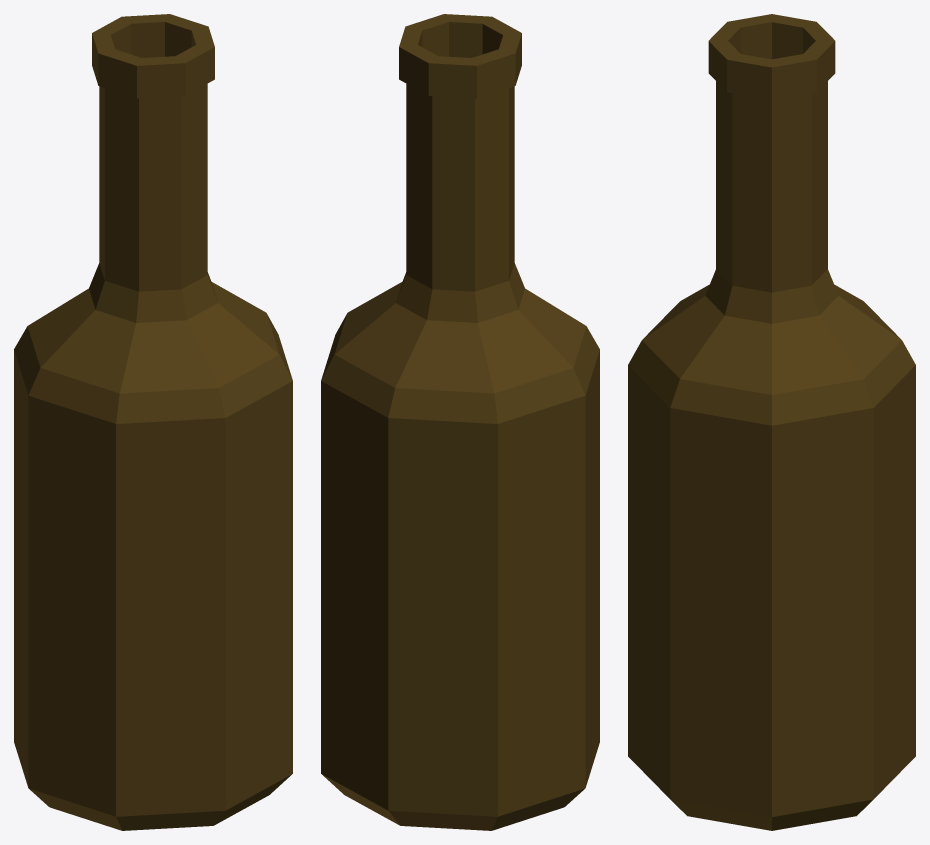
The model's file is bottle.glb.
3 views of the same model, side by side, from view 1: azimuth 30°, elevation 25°; view 2: azimuth 150°, elevation 25°; view 3: azimuth 270°, elevation 25° (orthographic).
Visible parts, largest first — view 1: Cylinder; view 2: Cylinder; view 3: Cylinder.
Boxes of the visible parts, x1,y1,x2,y2 form: Cylinder: [14, 14, 292, 830]; Cylinder: [321, 14, 599, 830]; Cylinder: [628, 14, 915, 830].
Size of the model in its own units: 0.4597 by 1.3 by 0.4597.
